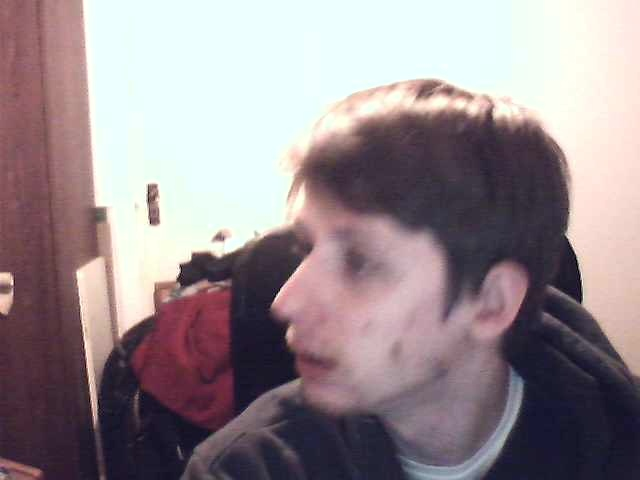noMask: (251, 286, 467, 430)
